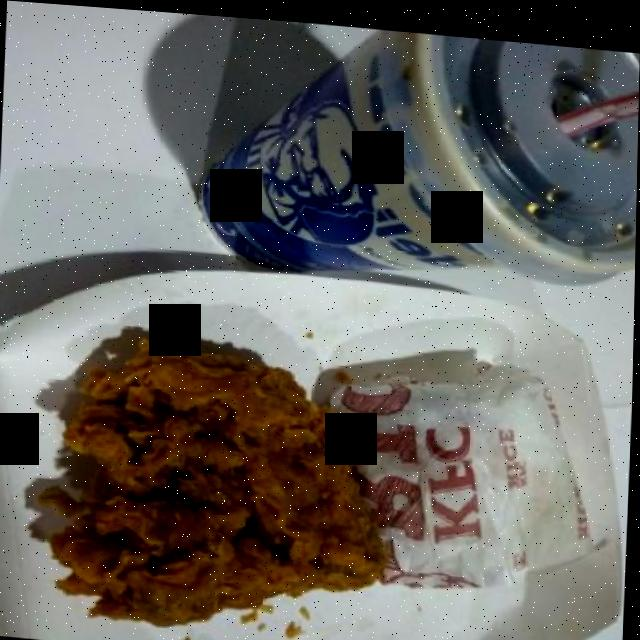Frango: (35, 323, 402, 640)
